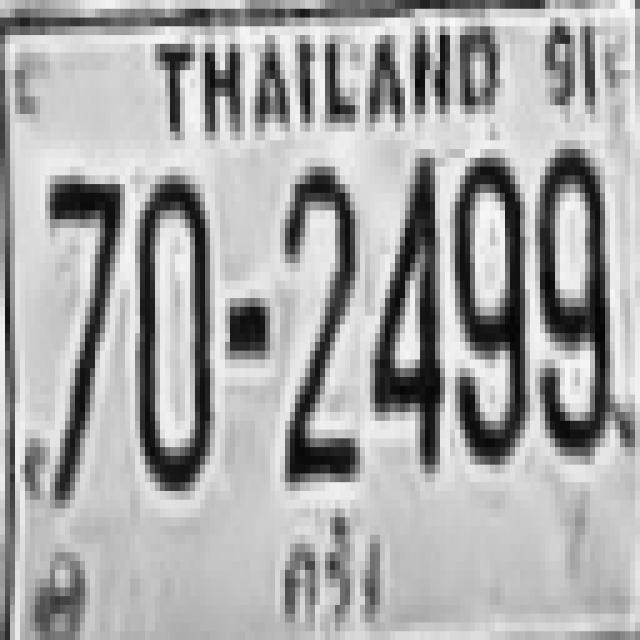0: (135, 167, 210, 482)
2: (280, 162, 355, 478)
4: (370, 149, 440, 465)
7: (45, 171, 120, 495)
9: (535, 140, 610, 447), (450, 149, 525, 456)
Trang: (270, 502, 388, 640)
